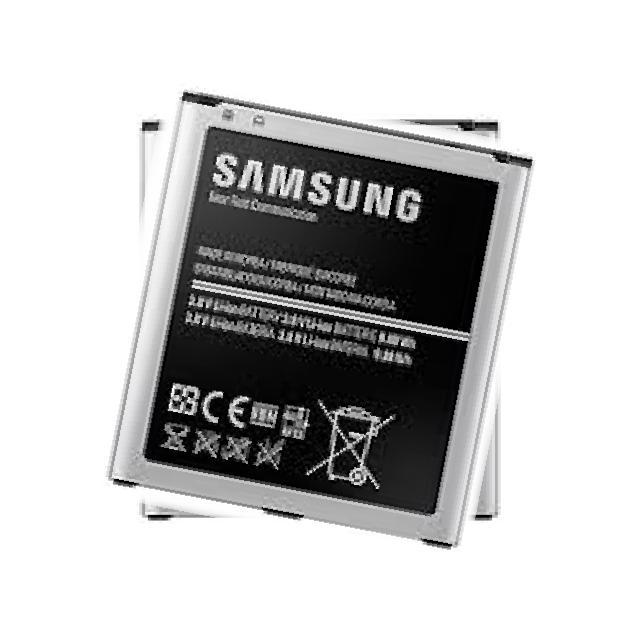Battery: (100, 80, 538, 562)
